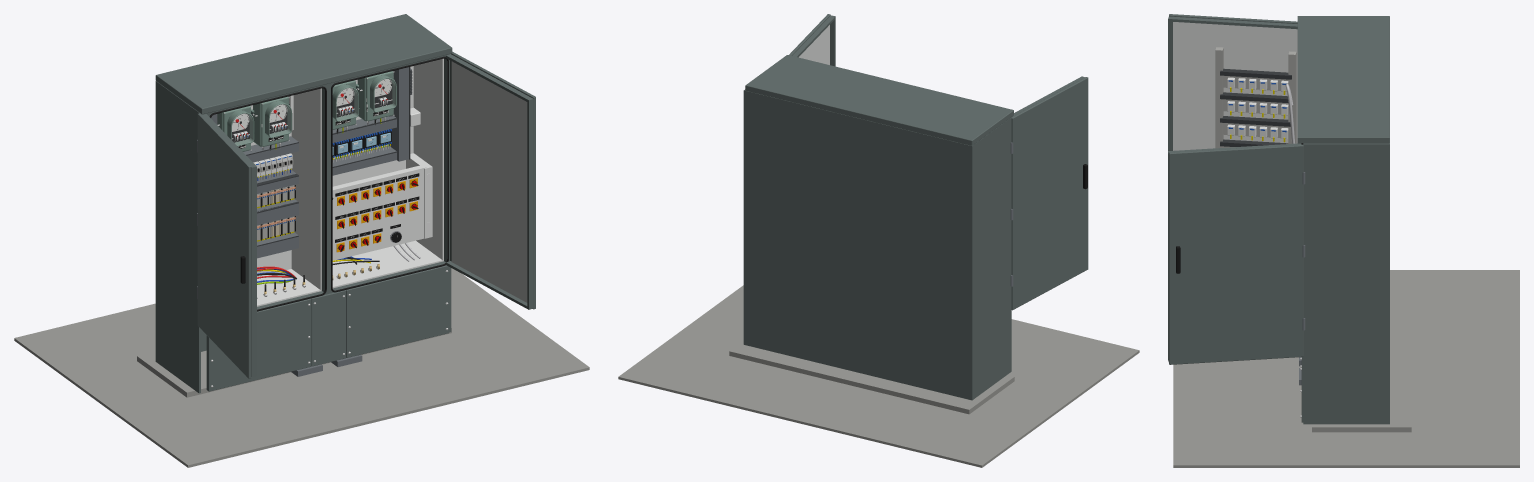
Rendered from fcc_panel.glb.
3 renders of one model, left to right at view 1: azimuth 30°, elevation 25°; view 2: azimuth 150°, elevation 25°; view 3: azimuth 270°, elevation 25°, orthographic. The views are drawn at different scales.
Parts seen in each view (by area): view 1: Cabinet_Shell, Ground, Door_Right, Bay_Interior, Door_Left, SwingPlate_Body, RightBay_Frame, LeftBay_Frame, SwingPlate_CamSwitches, Plinth_Feet, OTI_F74_Body, WTI_F72_Body (+7 smaller); view 2: Cabinet_Shell, Ground, Door_Left, Plinth_Feet, Door_Right; view 3: Ground, Cabinet_Shell, Door_Right, Door_Left, Plinth_Feet.
Part boxes in pixels (x1=…): Cabinet_Shell: x1=155, y1=14, x2=452, y2=393; Ground: x1=14, y1=268, x2=589, y2=467; Door_Right: x1=446, y1=51, x2=535, y2=309; Bay_Interior: x1=250, y1=58, x2=443, y2=306; Door_Left: x1=197, y1=113, x2=256, y2=378; SwingPlate_Body: x1=332, y1=153, x2=432, y2=260; RightBay_Frame: x1=332, y1=67, x2=420, y2=175; LeftBay_Frame: x1=211, y1=95, x2=298, y2=258; SwingPlate_CamSwitches: x1=335, y1=173, x2=419, y2=252; Plinth_Feet: x1=137, y1=327, x2=451, y2=397; OTI_F74_Body: x1=356, y1=71, x2=395, y2=122; WTI_F72_Body: x1=251, y1=96, x2=290, y2=147; Cabinet_Shell: x1=743, y1=55, x2=1013, y2=400; Ground: x1=618, y1=285, x2=1139, y2=467; Door_Left: x1=1010, y1=76, x2=1088, y2=310; Plinth_Feet: x1=729, y1=341, x2=1014, y2=414; Door_Right: x1=789, y1=14, x2=835, y2=66; Ground: x1=1173, y1=270, x2=1519, y2=467; Cabinet_Shell: x1=1297, y1=16, x2=1389, y2=424; Door_Right: x1=1168, y1=143, x2=1305, y2=364; Door_Left: x1=1168, y1=14, x2=1301, y2=150; Plinth_Feet: x1=1299, y1=298, x2=1411, y2=432.
Size of the model in its own units: 3.2 by 2.25 by 2.44.
